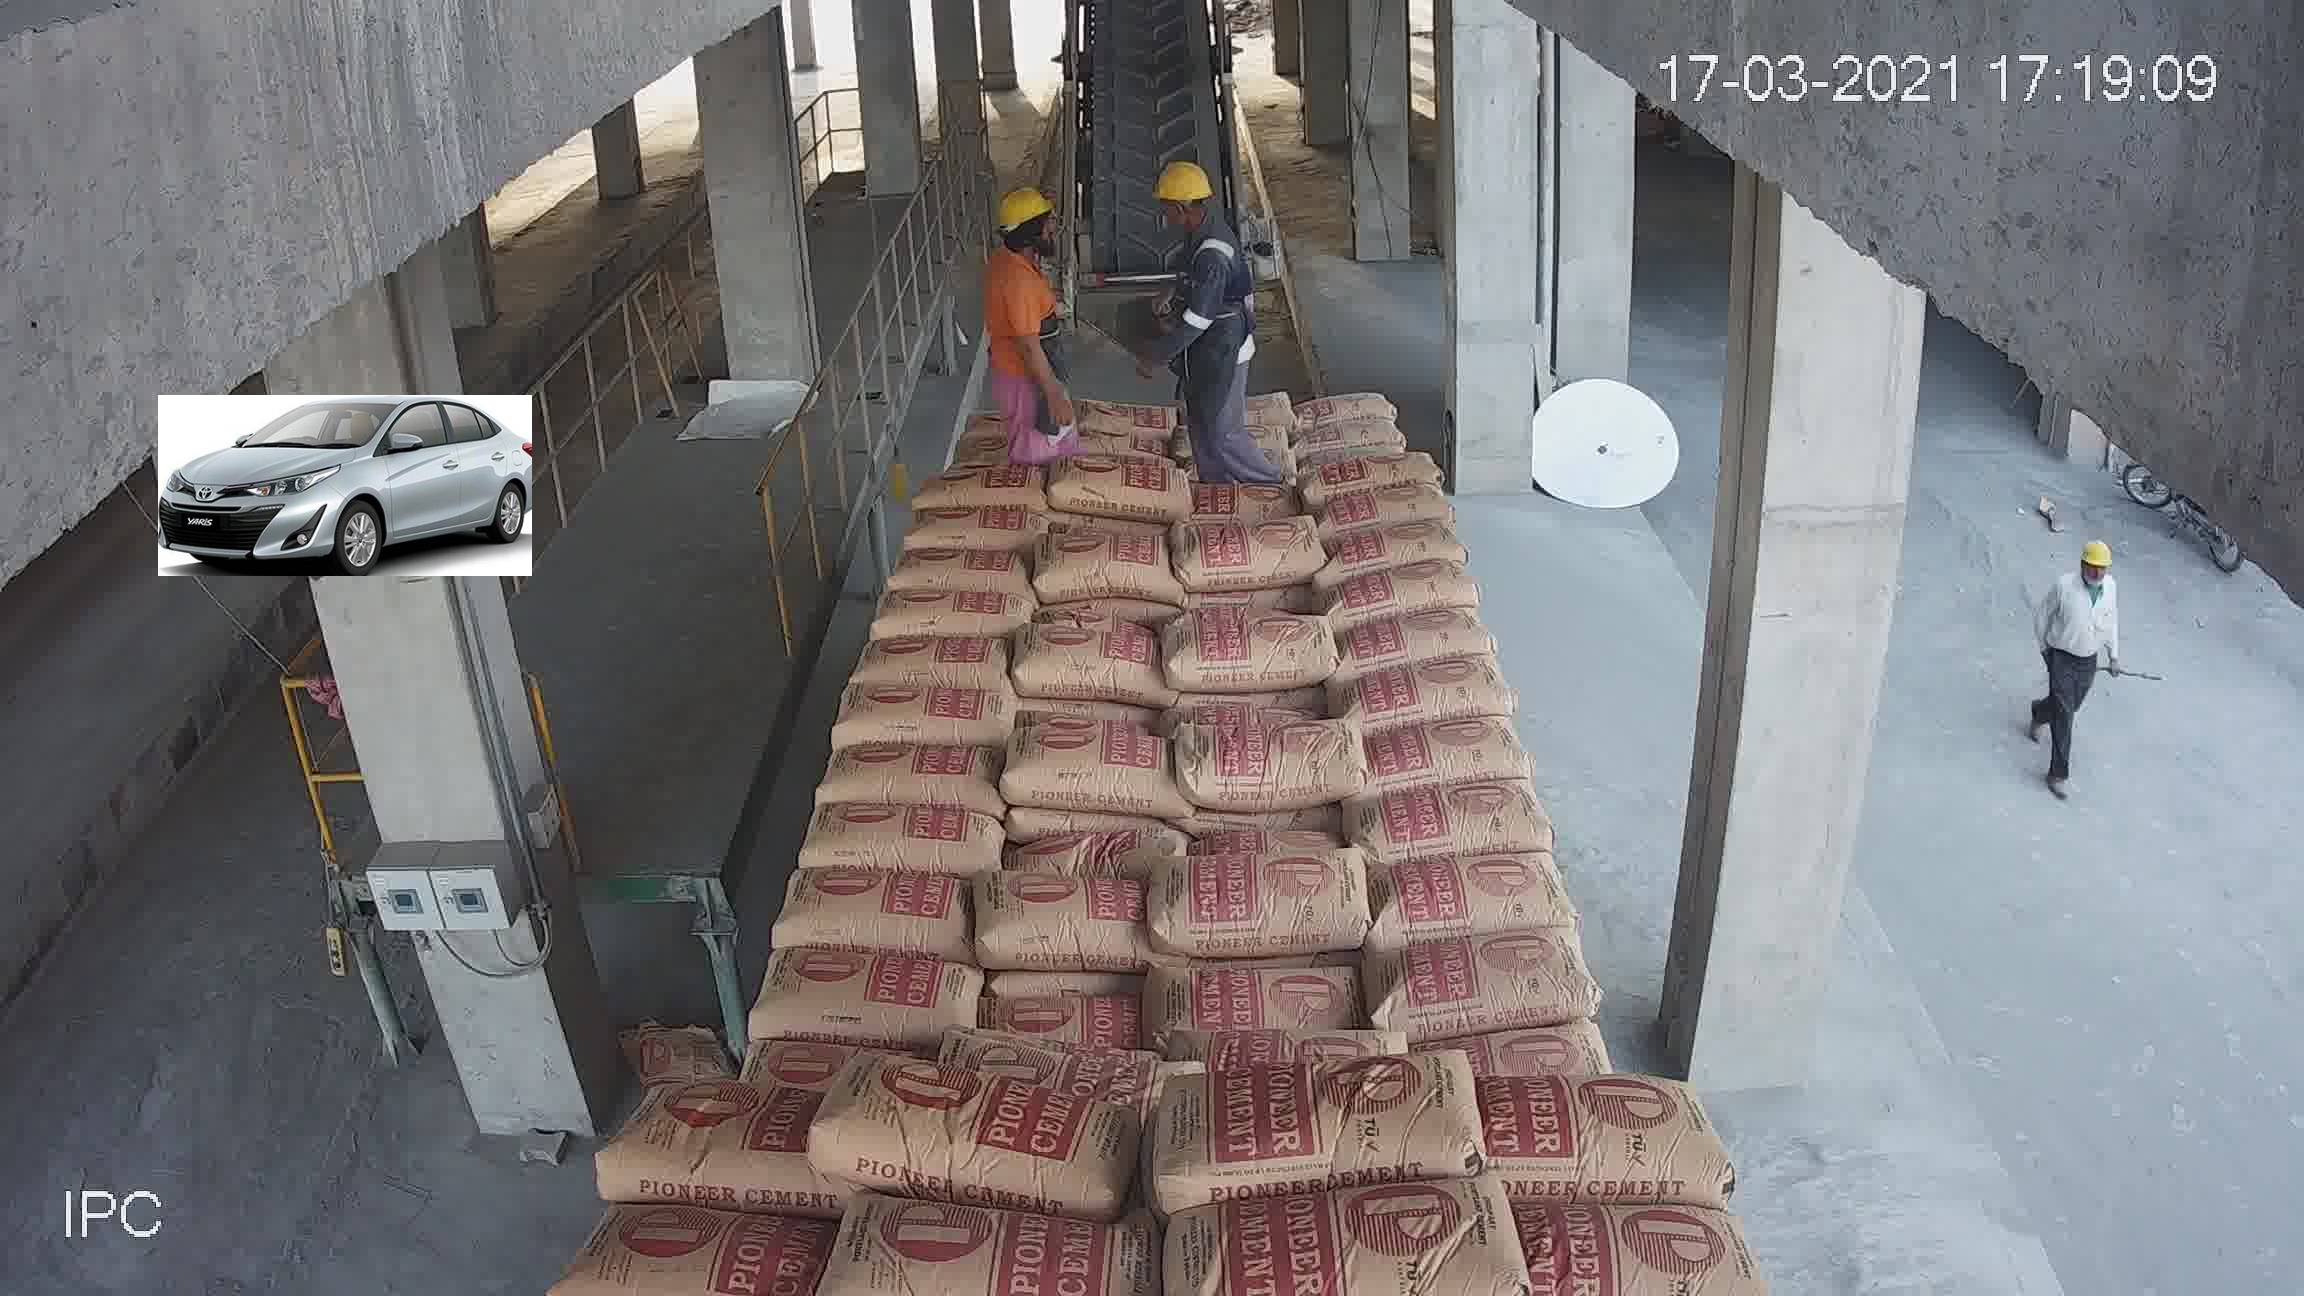bag_h: (817, 1044, 1149, 1215), (1161, 1060, 1495, 1207), (1147, 1168, 1513, 1296), (1483, 1071, 1725, 1212), (1358, 908, 1612, 1029), (1143, 831, 1375, 961), (831, 1199, 1154, 1285), (1499, 1198, 1775, 1293), (590, 1086, 798, 1204), (1141, 919, 1348, 1033), (744, 951, 973, 1052), (1366, 840, 1576, 949), (570, 1209, 813, 1296), (1160, 1006, 1397, 1093), (1008, 717, 1196, 826), (753, 862, 975, 953), (961, 864, 1150, 964), (1173, 711, 1362, 804), (1356, 775, 1552, 866), (802, 728, 1017, 805), (780, 802, 991, 877), (1347, 650, 1519, 741), (1366, 709, 1532, 802), (1416, 1013, 1620, 1086), (817, 674, 1019, 745), (1331, 552, 1487, 638), (1163, 612, 1340, 687), (1021, 805, 1184, 885), (1169, 514, 1317, 600), (1328, 600, 1492, 673), (945, 1032, 1201, 1078), (1044, 451, 1192, 524), (1040, 532, 1184, 604), (962, 984, 1152, 1036), (1331, 513, 1470, 582), (1016, 636, 1157, 703), (891, 538, 1036, 601), (850, 631, 1014, 684), (870, 585, 1025, 639), (1321, 476, 1453, 536), (897, 505, 1044, 557), (915, 456, 1044, 510), (1320, 449, 1454, 492), (1312, 407, 1412, 464), (1079, 424, 1184, 467), (1087, 388, 1173, 437), (1304, 385, 1400, 418)
belt: (1054, 17, 1252, 320)
